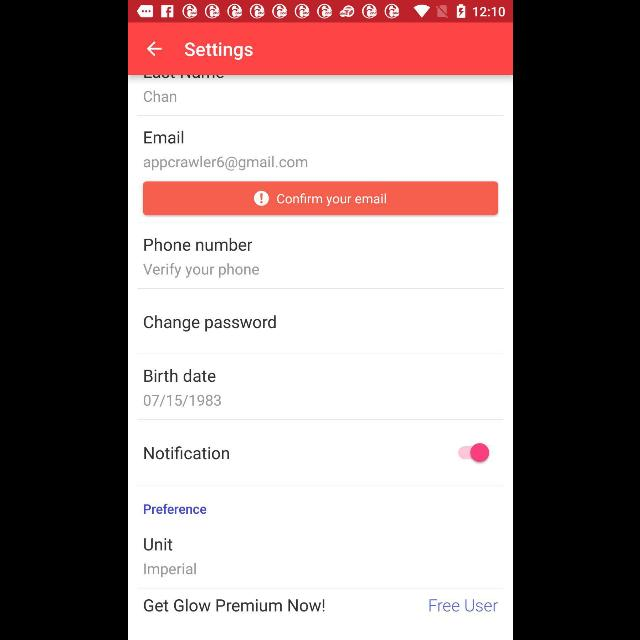icon: (146, 41, 162, 57)
switch: (458, 443, 488, 462)
text: (143, 156, 307, 172), (142, 599, 324, 613), (142, 316, 276, 332), (142, 263, 258, 279), (144, 238, 252, 252), (184, 41, 252, 60), (144, 446, 228, 460), (143, 394, 221, 408), (143, 369, 215, 383), (428, 599, 498, 613), (143, 562, 195, 578), (142, 504, 206, 514), (144, 132, 182, 144), (142, 90, 176, 102), (144, 537, 172, 551)
textbutton: (142, 182, 498, 216)
toolbar: (128, 23, 512, 75)
uppertaskbar: (128, 1, 512, 23)
